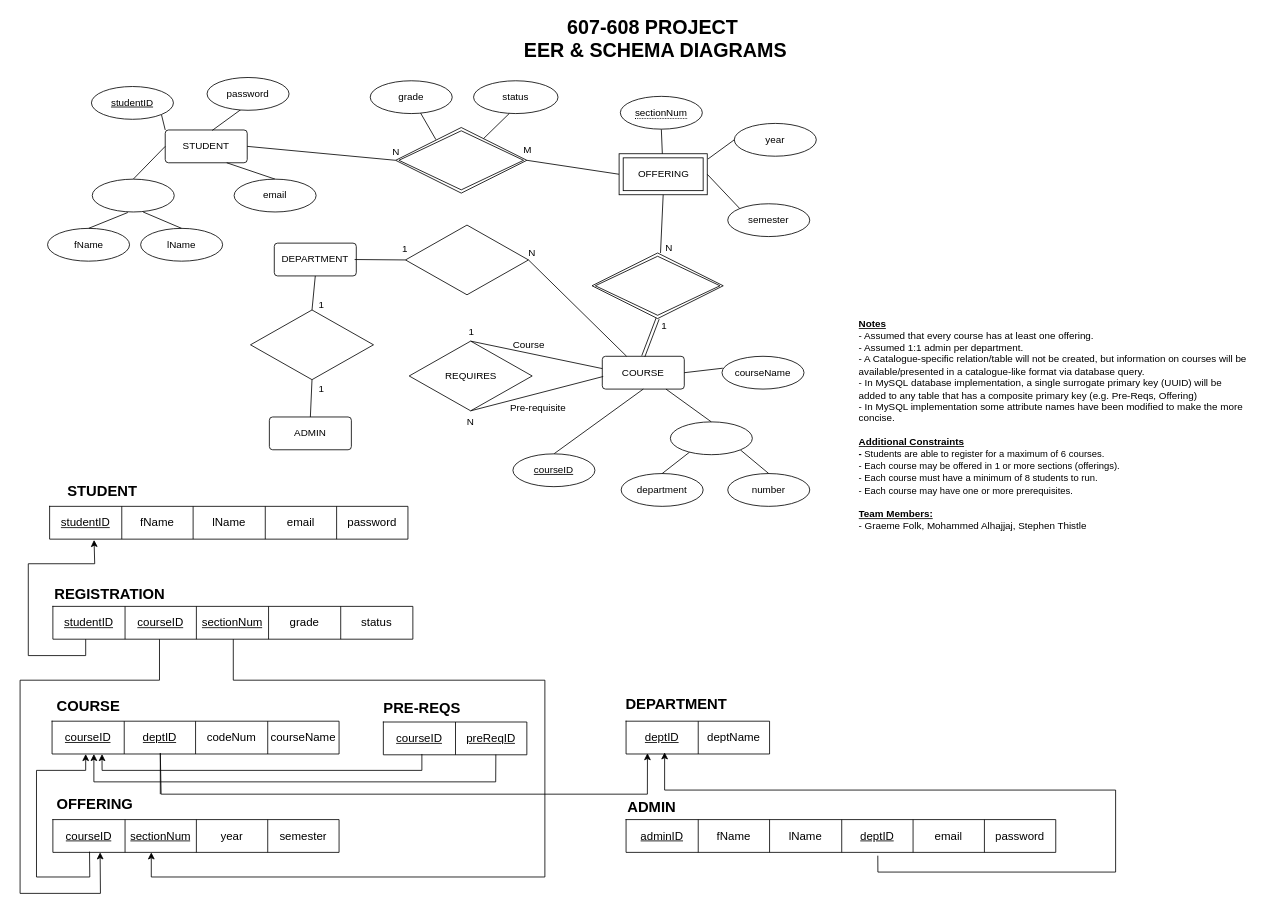
The diagram is 1273 pixels wide and 914 high, and some of its shapes have lost their labels. The shapes that lost their labels are listed below. From the top down, each one's centre as x and y in pixels, then its label:
the point at 461,160: REGISTERS
the point at 132,195: name
the point at 466,259: HAS
the point at 657,285: OFFERS
the point at 312,344: ADMINISTERS
the point at 711,438: courseCode
